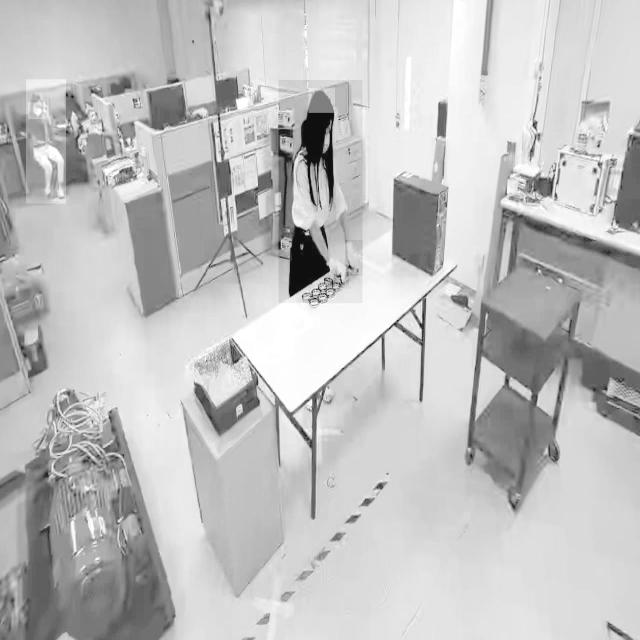face_mask: (317, 123, 335, 157), (28, 102, 46, 119)
hand_glove: (345, 240, 363, 276), (327, 260, 349, 286)
head_nohelmet: (308, 88, 335, 114), (65, 88, 75, 99), (30, 92, 42, 101)
person: (278, 80, 362, 304), (26, 79, 66, 205)
